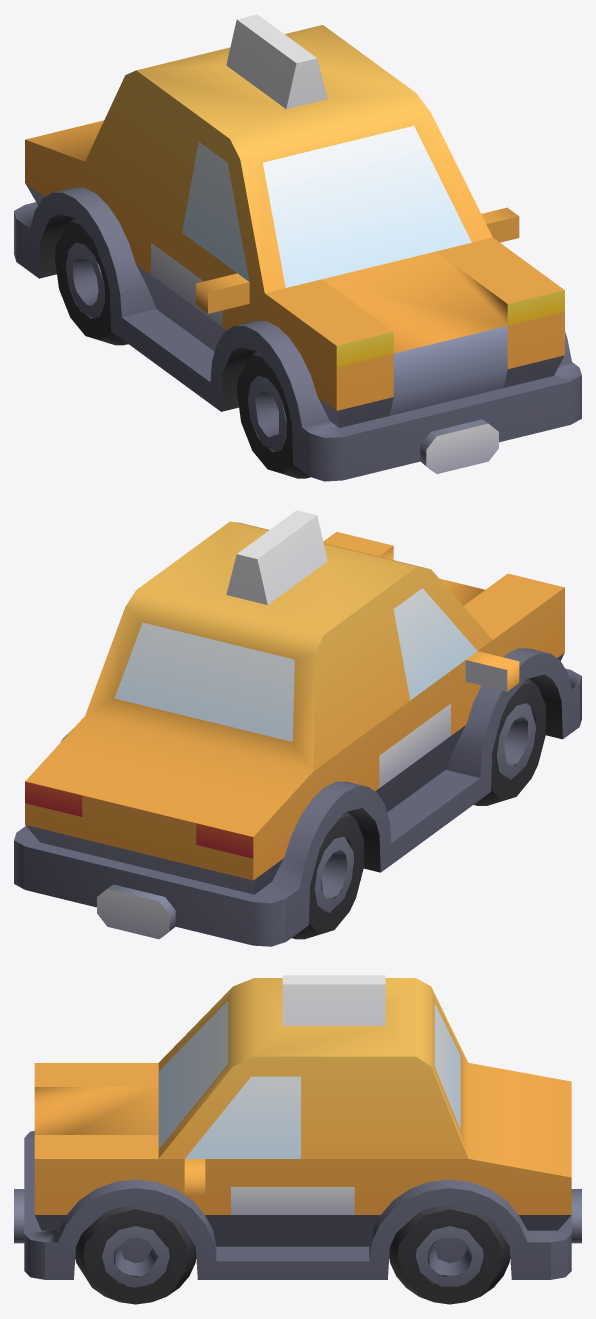
The model's file is taxi.glb.
3 views of the same model, one above another, from view 1: azimuth 30°, elevation 25°; view 2: azimuth 150°, elevation 25°; view 3: azimuth 270°, elevation 25° (orthographic). The views are drawn at different scales.
Parts seen in each view (by area): view 1: body; view 2: body; view 3: body.
Boxes of the visible parts, x1,y1,x2,y2 form: body: (14, 14, 581, 481); body: (14, 510, 581, 946); body: (14, 975, 581, 1304).
Size of the model in its own units: 2.25 by 2.25 by 4.12.
Materials: 1 (1 with a texture image).
